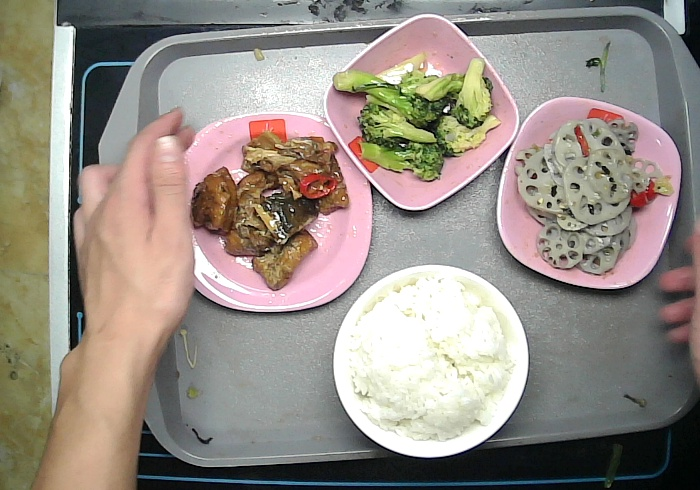SHKJ-Fan_Wan: (330, 262, 531, 459)
SHKJ-Fen_Se_Cai_Die: (495, 95, 685, 291)
SHKJ-Fen_Se_Si_Fang_Cai_Die: (168, 109, 375, 315)
SHKJ-Fen_Se_Xiao_Fang_Die: (320, 13, 523, 219)
